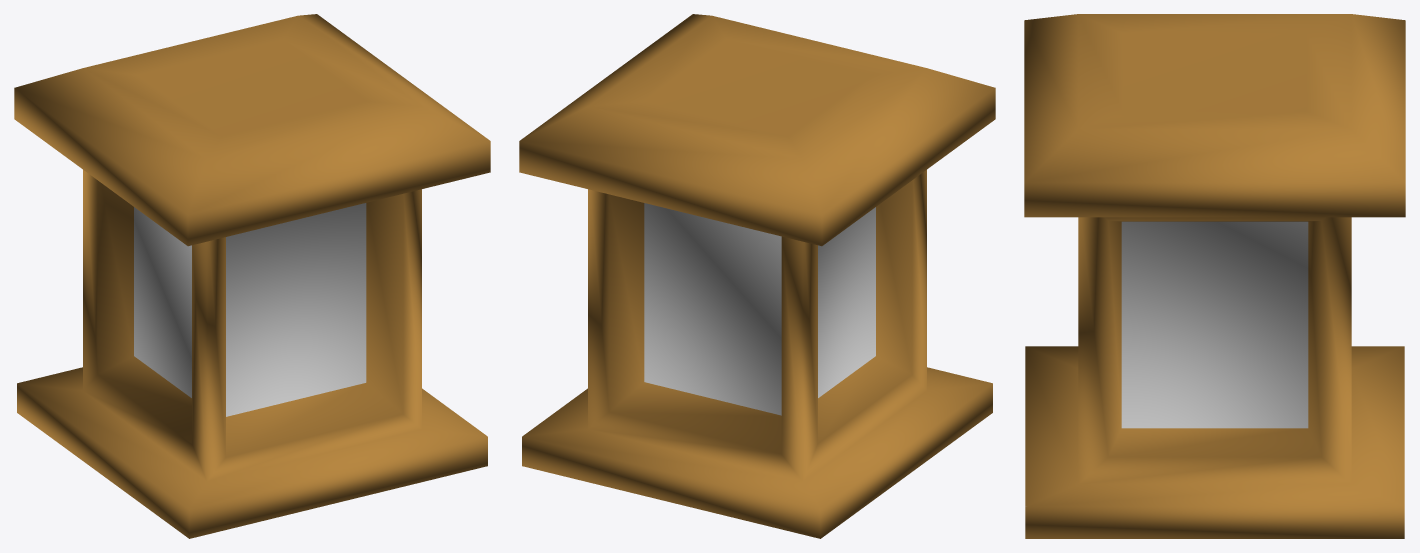
File: Lamp.fbx
3 renders of one model, left to right at view 1: azimuth 30°, elevation 25°; view 2: azimuth 150°, elevation 25°; view 3: azimuth 270°, elevation 25°, orthographic. The views are drawn at different scales.
Parts seen in each view (by area): view 1: Cube; view 2: Cube; view 3: Cube.
Boxes of the visible parts, x1,y1,x2,y2 form: Cube: (14, 14, 490, 538); Cube: (519, 14, 995, 538); Cube: (1024, 14, 1405, 538).
Size of the model in its own units: 2.03 by 2.25 by 2.01.
